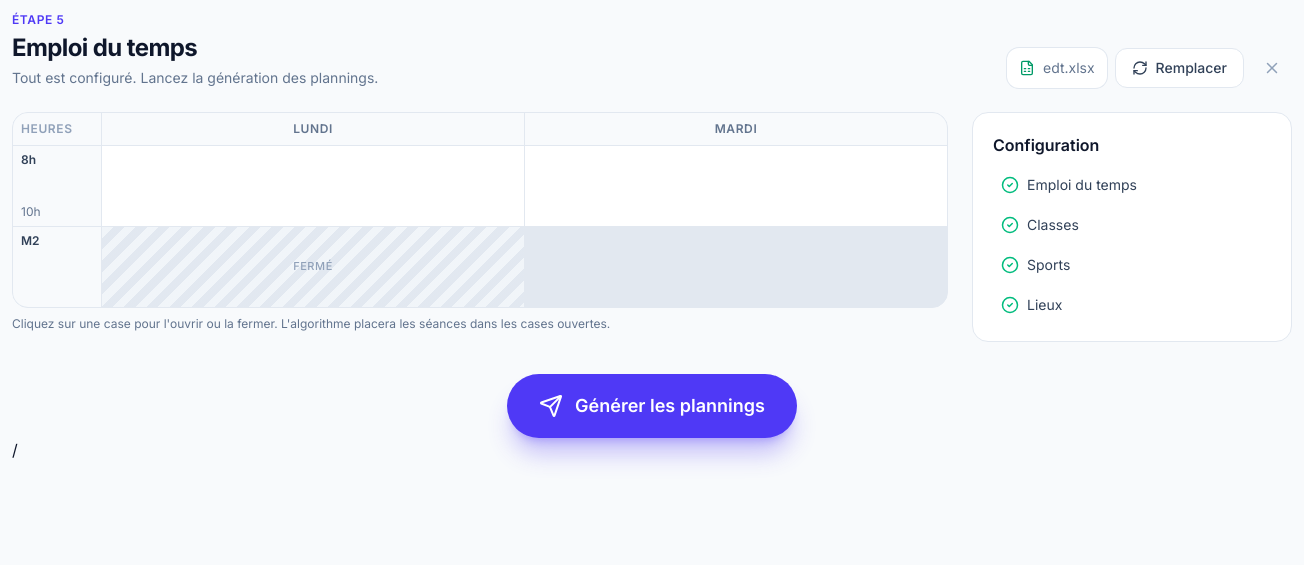
Scenario: PlanningPage : configuration › génération : erreur réseau
The image size is (1304, 565).
Click the button "Générer les plannings".
click(652, 406)  # box 507,374 -> 797,438
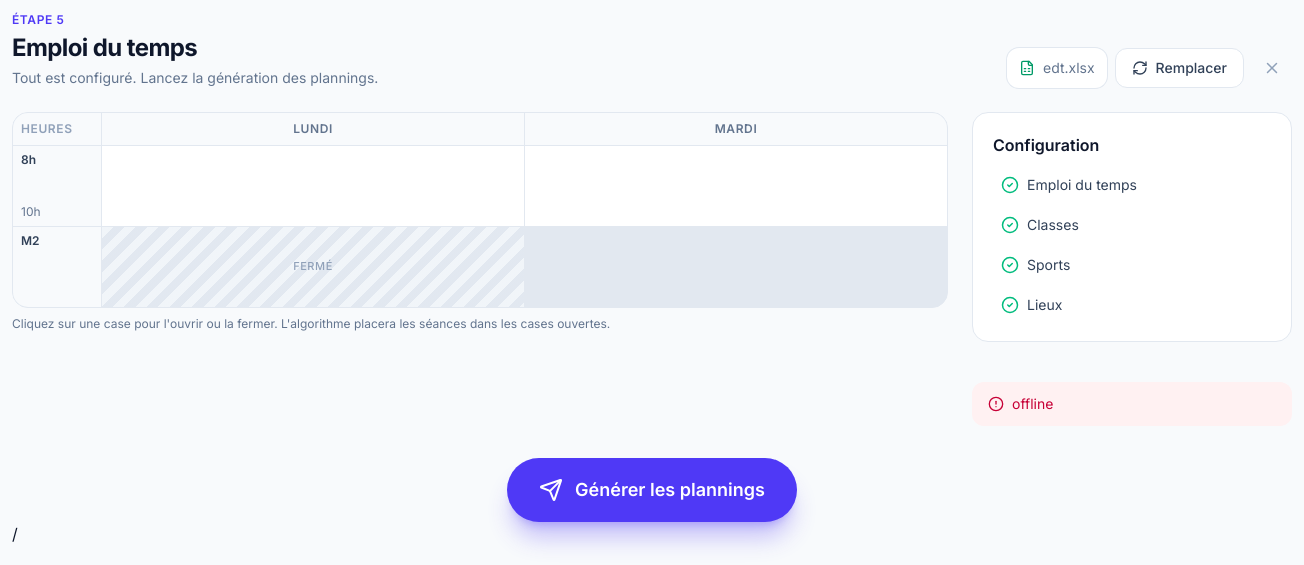
Check: the text "offline" is shown, box 972,382 -> 1292,426
